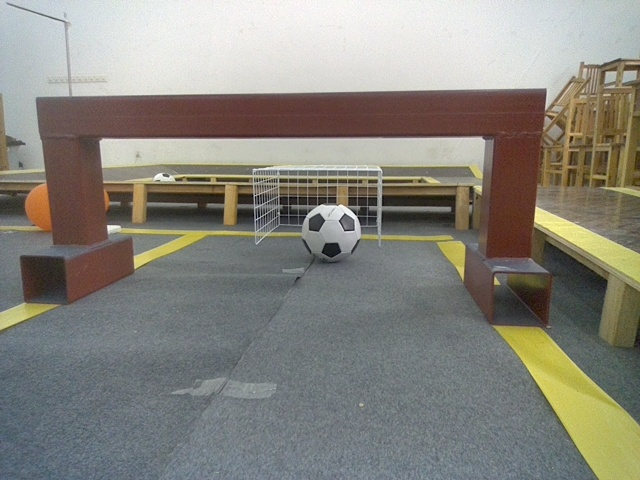football: (290, 187, 375, 266), (139, 166, 190, 195)
